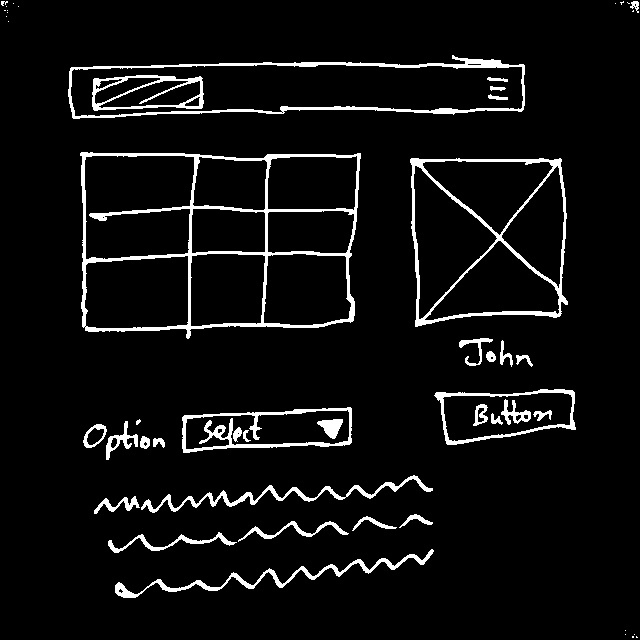button: (434, 388, 584, 444)
image: (407, 152, 566, 322)
navbar: (67, 62, 526, 115)
paragraph: (99, 471, 434, 601)
select: (181, 413, 354, 449)
table: (78, 145, 362, 329)
